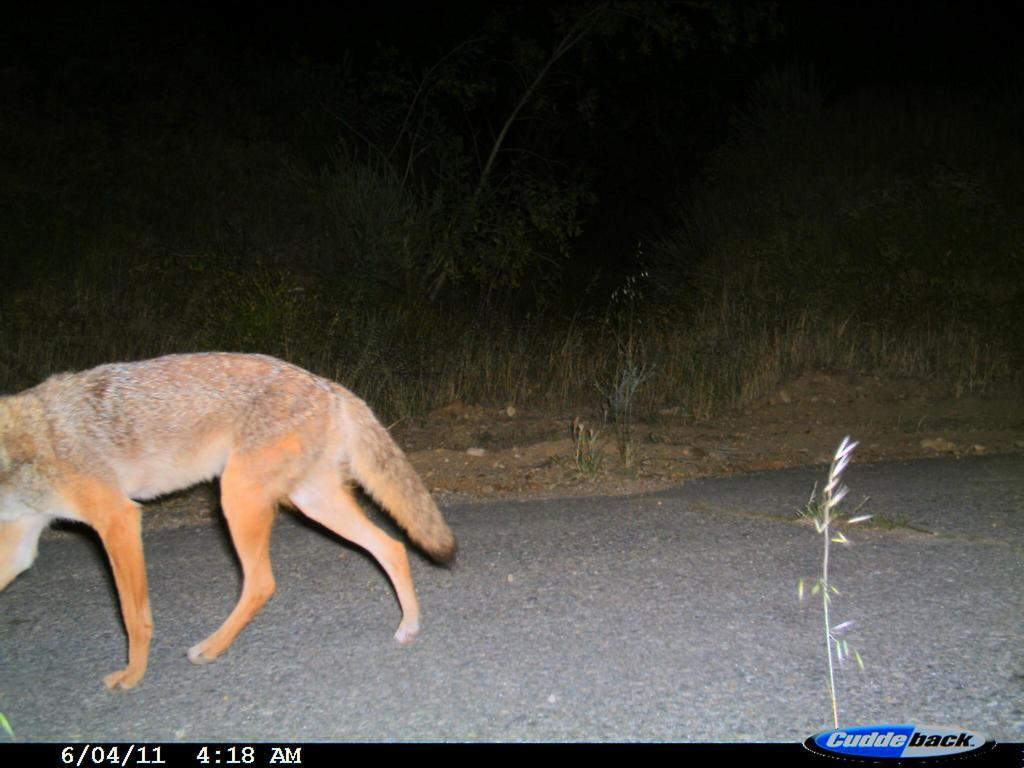coyote: (2, 339, 471, 694)
